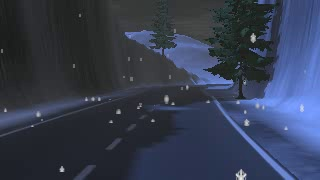Lane: (0, 84, 289, 179)
